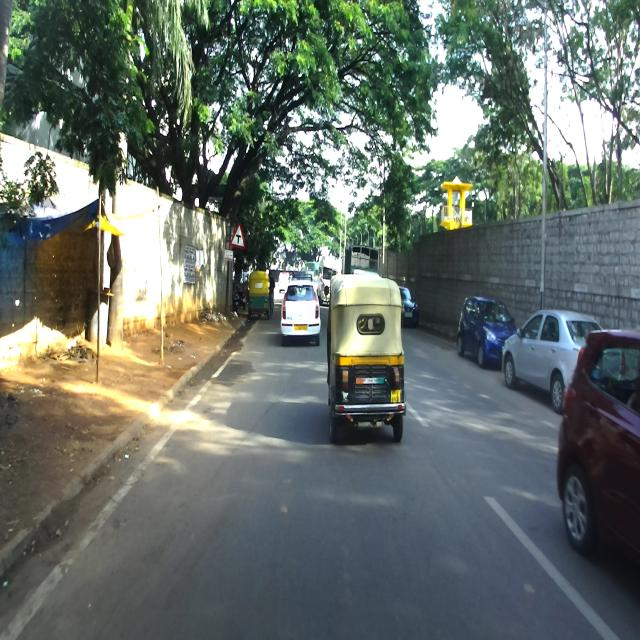auto ahead at: (324, 273, 406, 448), (249, 273, 269, 315)
car ahead at: (560, 327, 640, 574), (502, 310, 564, 407), (278, 281, 322, 344)
sign board ahead at: (232, 222, 248, 256)
